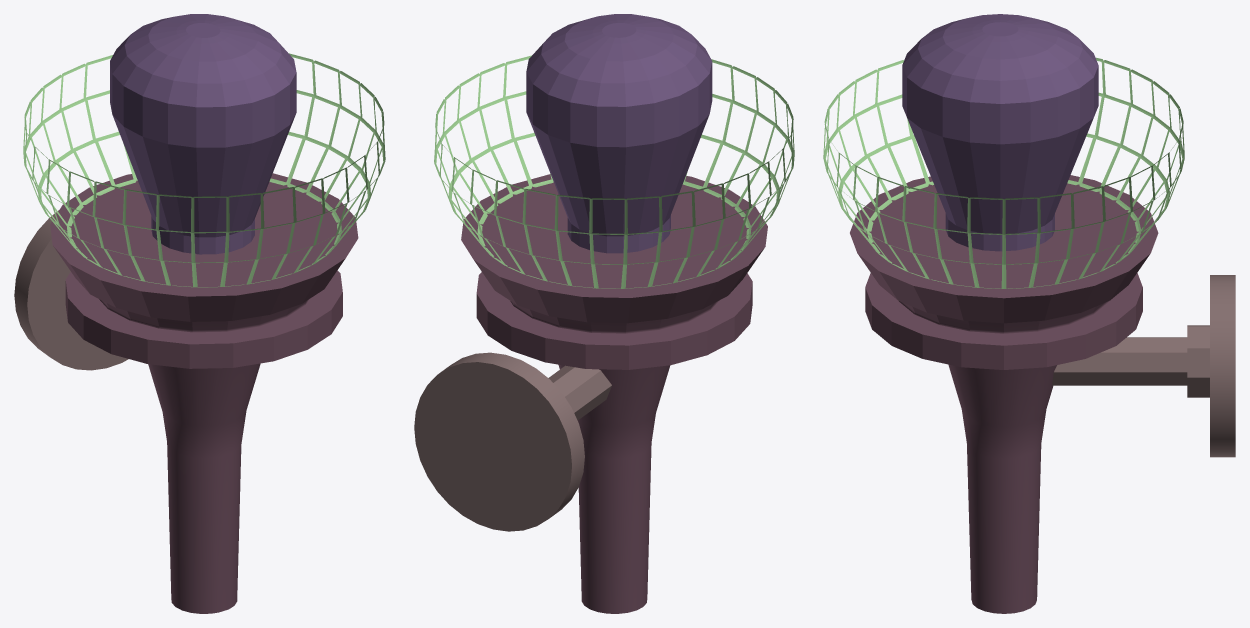
Rendered from torch_stand_in.fbx.
The picture shows the model from 3 angles, left to right: view 1: azimuth 30°, elevation 25°; view 2: azimuth 150°, elevation 25°; view 3: azimuth 270°, elevation 25°; orthographic projection.
Visible parts, largest first — view 1: polySurface5, polySurface1, polySurface4, polySurface2; view 2: polySurface5, polySurface1, polySurface2, polySurface4, polySurface3; view 3: polySurface5, polySurface1, polySurface4, polySurface3, polySurface2.
Part boxes in pixels (bbox=[...]): polySurface5: bbox=[50, 173, 358, 613]; polySurface1: bbox=[110, 14, 296, 254]; polySurface4: bbox=[23, 53, 385, 287]; polySurface2: bbox=[14, 210, 128, 370]; polySurface5: bbox=[461, 174, 767, 613]; polySurface1: bbox=[526, 14, 712, 253]; polySurface2: bbox=[414, 352, 584, 531]; polySurface4: bbox=[434, 55, 794, 288]; polySurface3: bbox=[548, 365, 611, 420]; polySurface5: bbox=[850, 175, 1158, 613]; polySurface1: bbox=[902, 14, 1098, 251]; polySurface4: bbox=[823, 57, 1184, 288]; polySurface3: bbox=[1052, 325, 1209, 397]; polySurface2: bbox=[1210, 275, 1235, 457].
Size of the model in its own units: 31.94 by 55.51 by 36.43.
